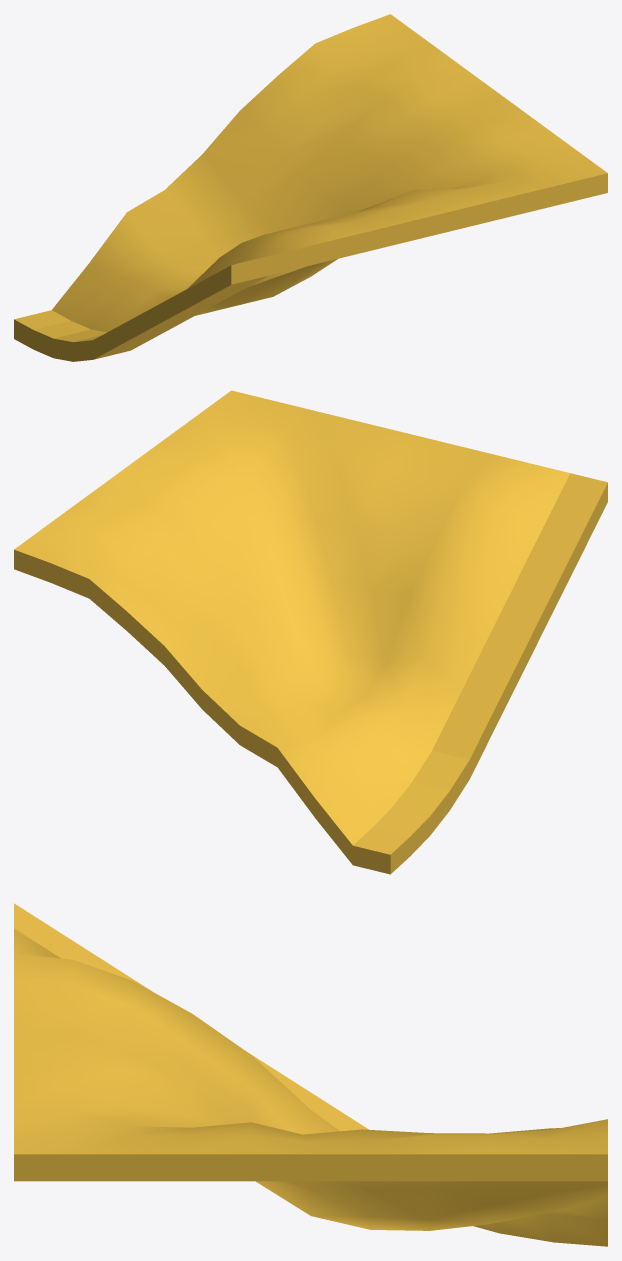
The model's file is Steil - Unten - Ecke Invertiert b - x.fbx.
The picture shows the model from 3 angles, top to bottom: view 1: azimuth 30°, elevation 25°; view 2: azimuth 150°, elevation 25°; view 3: azimuth 270°, elevation 25°; orthographic projection. The views are drawn at different scales.
Visible parts, largest first — view 1: Steil - Unten - Ecke Invertiert b - x; view 2: Steil - Unten - Ecke Invertiert b - x; view 3: Steil - Unten - Ecke Invertiert b - x.
Part boxes in pixels (x1,y1,x2,y2): Steil - Unten - Ecke Invertiert b - x: (14, 14, 607, 361); Steil - Unten - Ecke Invertiert b - x: (14, 390, 607, 874); Steil - Unten - Ecke Invertiert b - x: (14, 903, 607, 1246).
Bounding box in the file's own units: 394 × 233 × 394.
